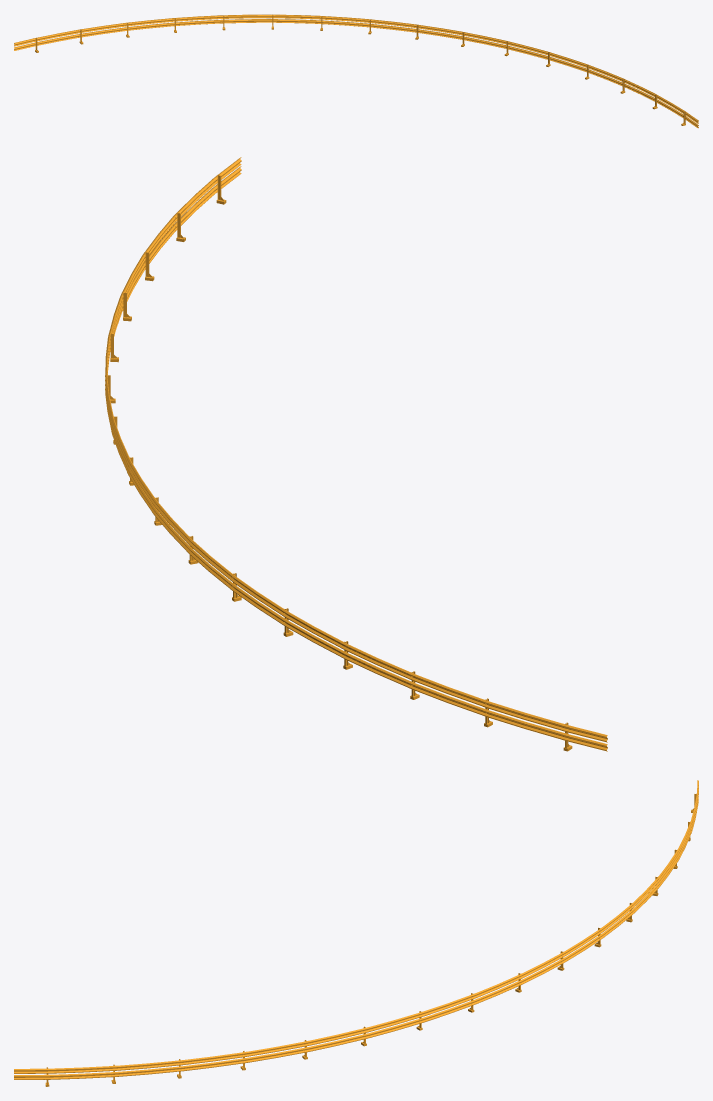
The model's file is SM_Fence_Road_WBeam_Double_Color_40m_Corner_Outer.fbx.
The picture shows the model from 3 angles, top to bottom: view 1: azimuth 30°, elevation 25°; view 2: azimuth 150°, elevation 25°; view 3: azimuth 270°, elevation 25°; orthographic projection. The views are drawn at different scales.
Parts seen in each view (by area): view 1: SM_Fence_Road_WBeam_Double_Color_40m_Corner_Outer; view 2: SM_Fence_Road_WBeam_Double_Color_40m_Corner_Outer; view 3: SM_Fence_Road_WBeam_Double_Color_40m_Corner_Outer.
Boxes of the visible parts, <box> form: SM_Fence_Road_WBeam_Double_Color_40m_Corner_Outer: <box>14,14,698,128</box>; SM_Fence_Road_WBeam_Double_Color_40m_Corner_Outer: <box>105,157,607,751</box>; SM_Fence_Road_WBeam_Double_Color_40m_Corner_Outer: <box>14,780,698,1086</box>.
Size of the model in its own units: 40.45 by 1.2 by 40.45.
